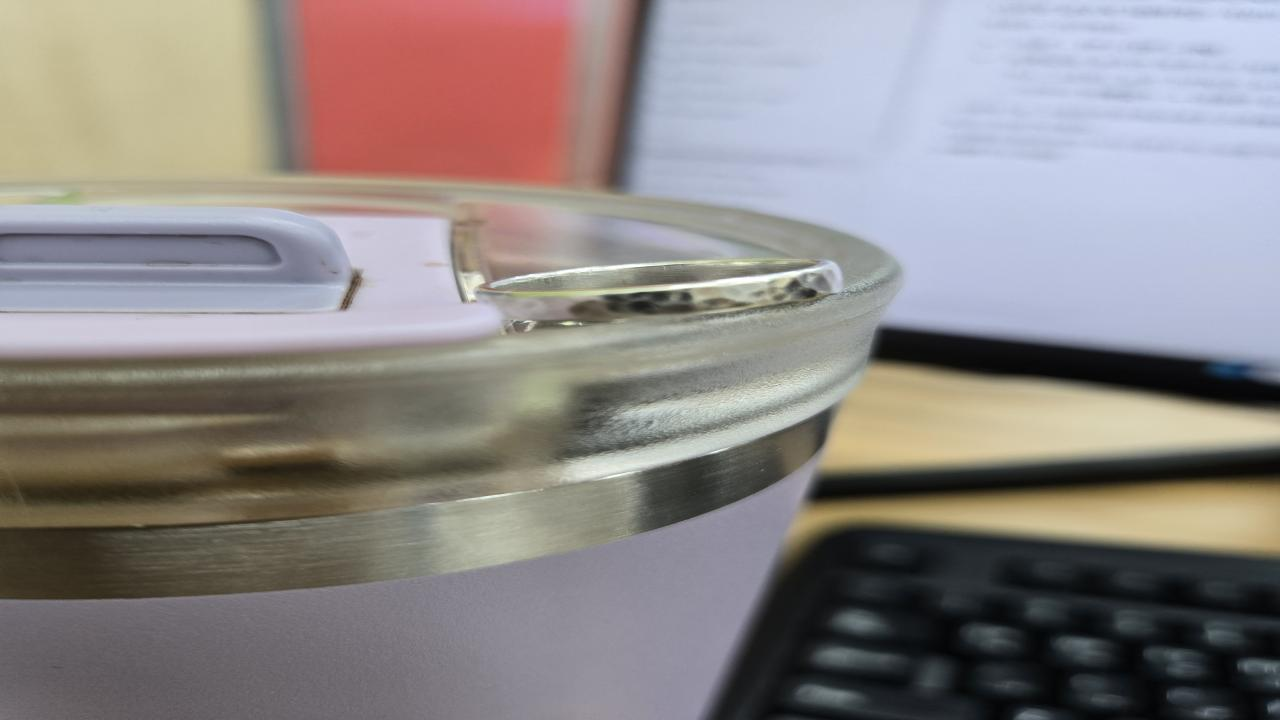ring: (476, 258, 845, 318)
